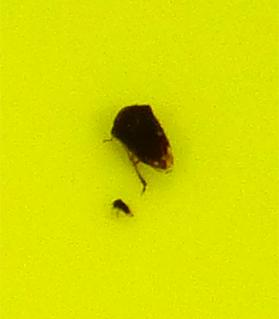Brachycera: (107, 195, 135, 219)
Hemiptera: (100, 100, 179, 192)
